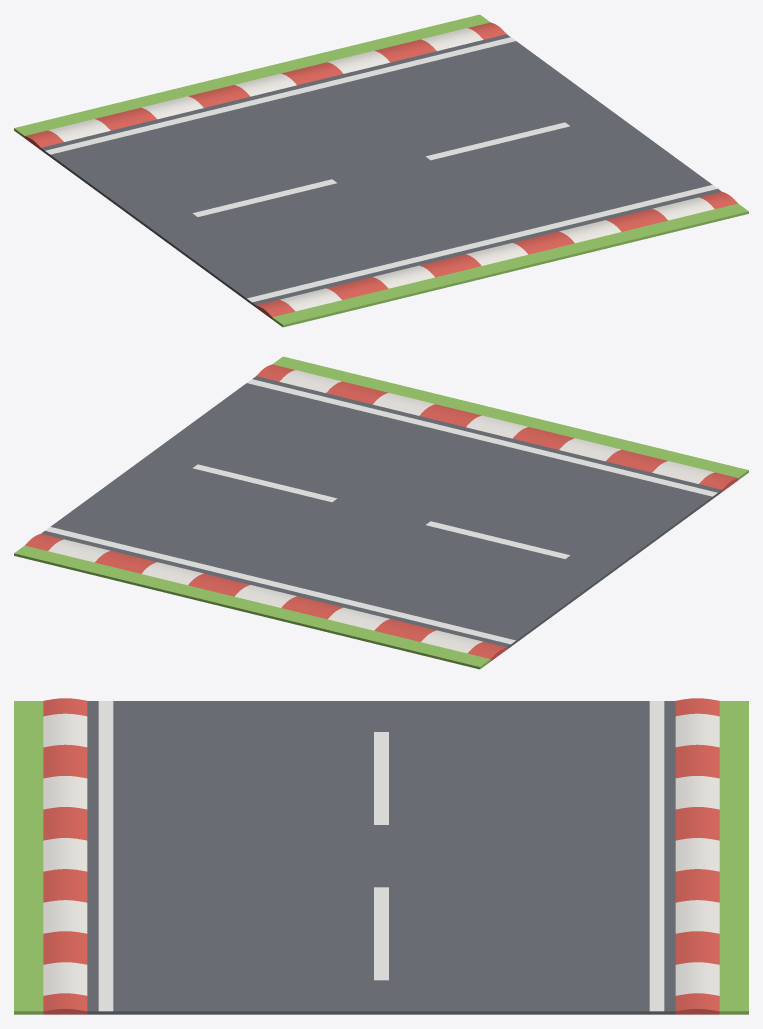
The model's file is race-track-straight.glb.
3 renders of one model, top to bottom at view 1: azimuth 30°, elevation 25°; view 2: azimuth 150°, elevation 25°; view 3: azimuth 270°, elevation 25°, orthographic. The views are drawn at different scales.
Visible parts, largest first — view 1: race-track-straight_asphalt, race-track-straight_curbs, race-track-straight_verge; view 2: race-track-straight_asphalt, race-track-straight_curbs, race-track-straight_verge; view 3: race-track-straight_asphalt, race-track-straight_curbs, race-track-straight_verge.
Part boxes in pixels (box(x1,y1,x2,y2)): race-track-straight_asphalt: box(41, 34, 721, 307); race-track-straight_curbs: box(24, 22, 737, 319); race-track-straight_verge: box(14, 14, 748, 327); race-track-straight_asphalt: box(41, 376, 721, 649); race-track-straight_curbs: box(25, 364, 738, 661); race-track-straight_verge: box(14, 356, 748, 669); race-track-straight_asphalt: box(87, 701, 675, 1014); race-track-straight_curbs: box(43, 698, 719, 1014); race-track-straight_verge: box(14, 701, 748, 1014).
Size of the model in its own units: 10 by 0.09 by 10.
